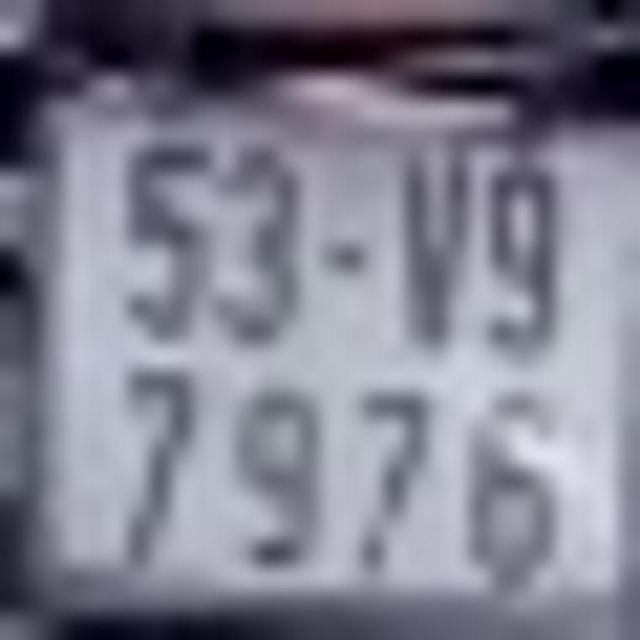3: (231, 158, 289, 342)
5: (132, 144, 203, 335)
6: (467, 392, 559, 581)
7: (105, 361, 194, 568), (352, 388, 428, 572)
9: (239, 393, 316, 570), (489, 174, 554, 356)
Y: (399, 158, 474, 342)
